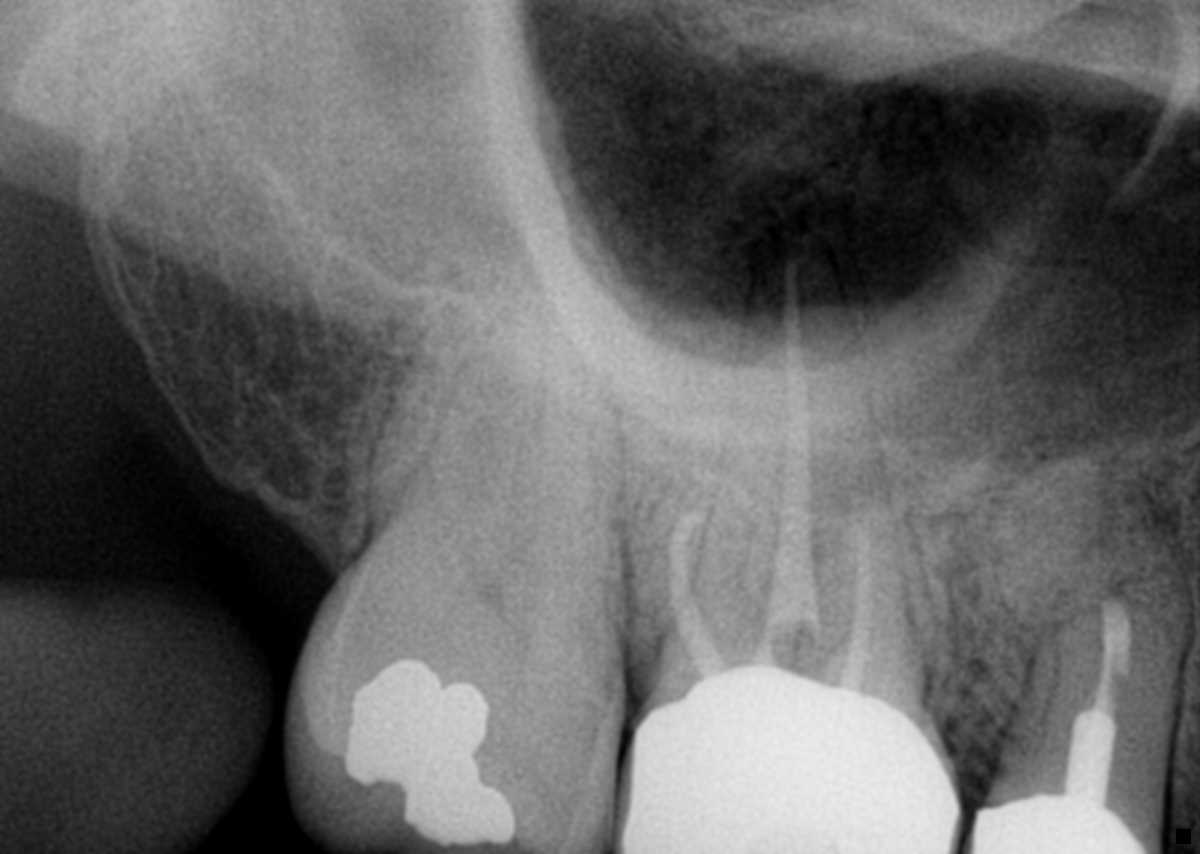Apical Lesion: (1112, 464, 1181, 533)
Distal Root: (397, 287, 554, 568), (632, 454, 755, 694)
Main Root: (989, 515, 1199, 821)
Mesial Root: (501, 306, 629, 626), (819, 487, 922, 708)
Palatal Root: (676, 226, 920, 688), (363, 270, 526, 555)
Root Canal Filling: (753, 266, 822, 666), (665, 510, 721, 672), (838, 525, 871, 686)
